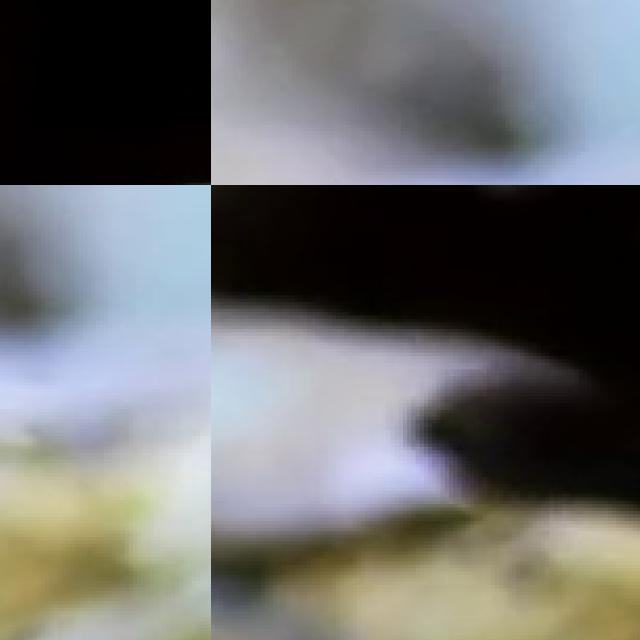fish: (0, 0, 211, 185), (0, 466, 170, 640)
